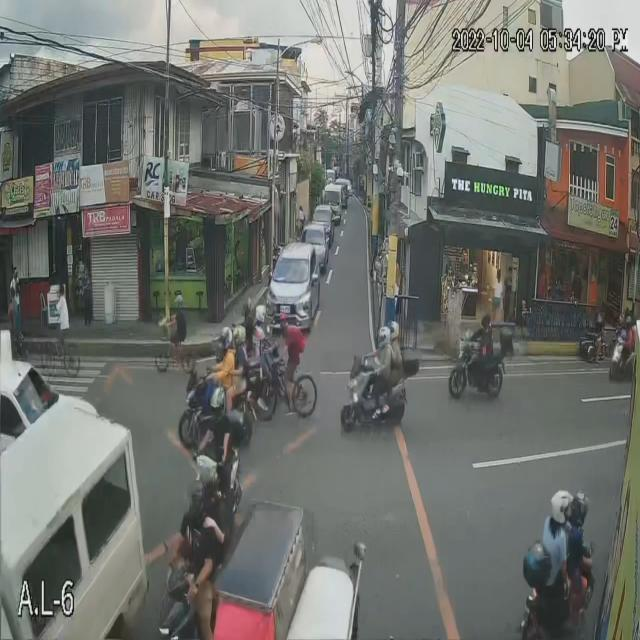full: (209, 388, 226, 423), (376, 324, 390, 348), (220, 326, 232, 348), (389, 320, 399, 340)
half: (550, 482, 573, 529), (574, 488, 588, 528)
